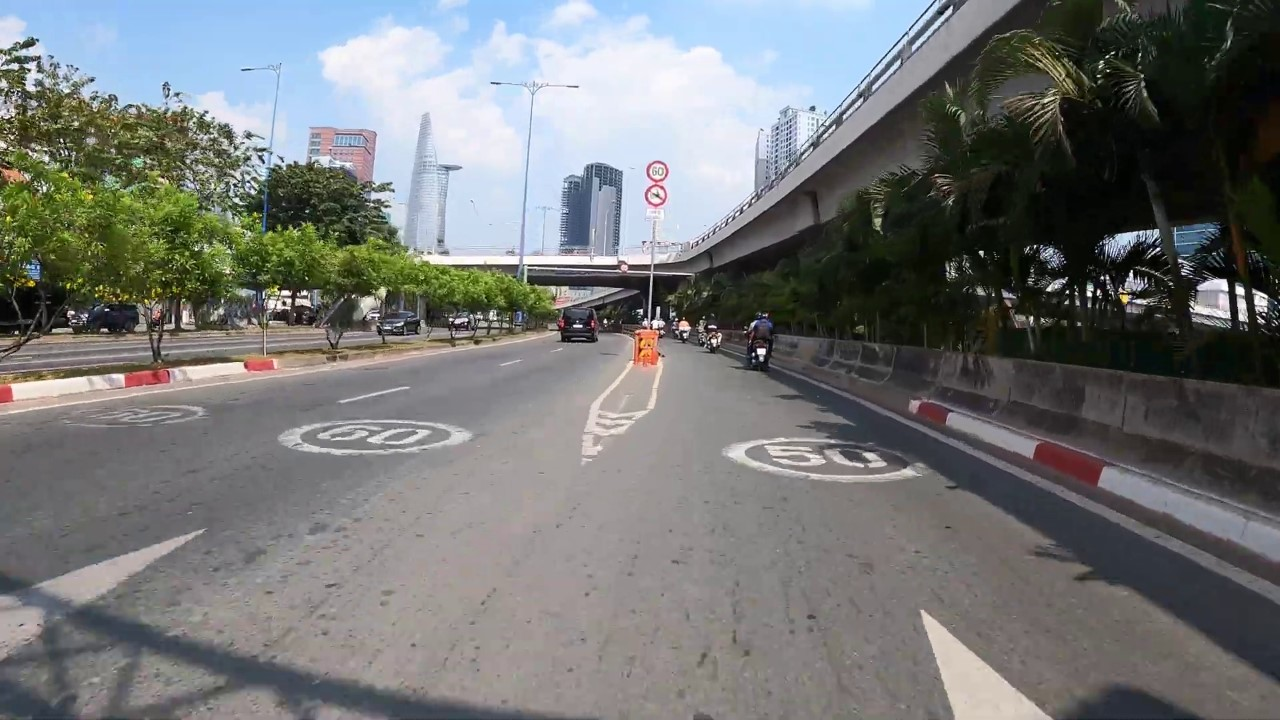gioi_han_60km: (646, 159, 670, 183)
